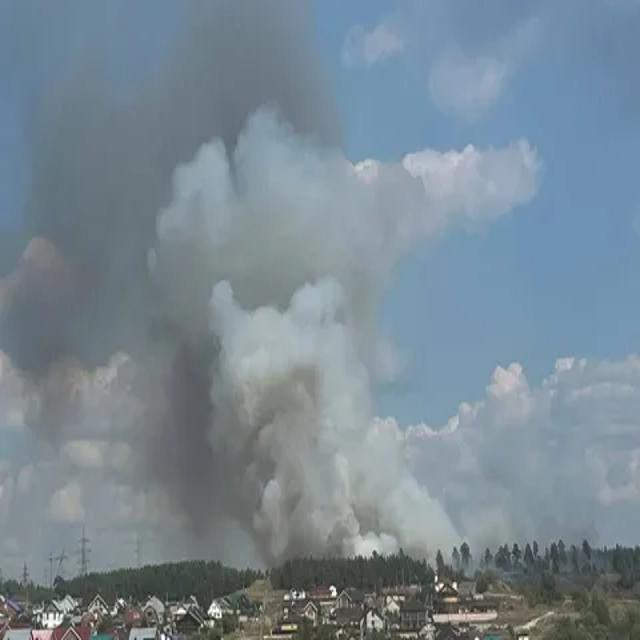Smoke: (140, 86, 463, 558)
